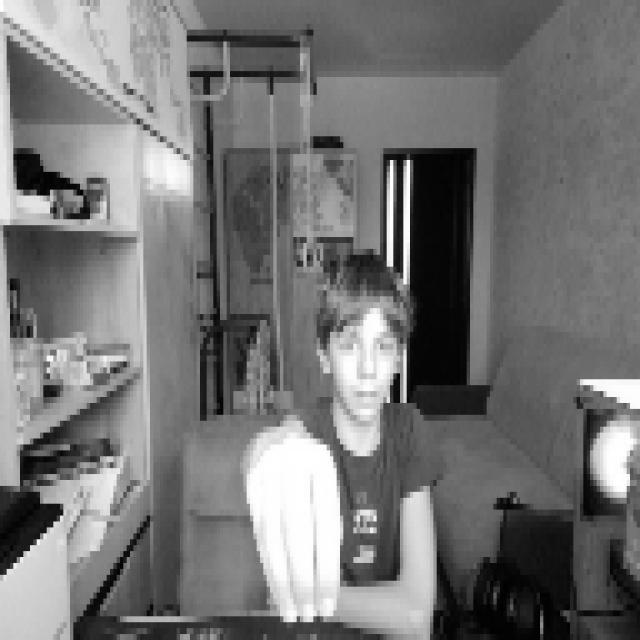left_click: (240, 421, 340, 622)
